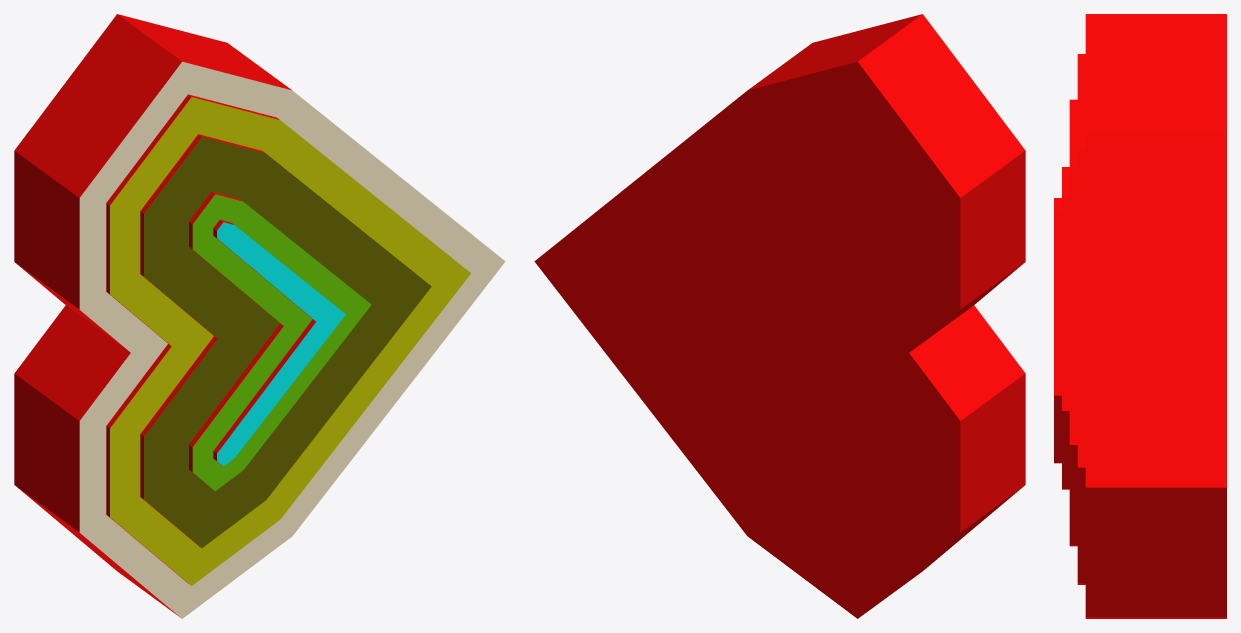
File: heartstoneGem.fbx
3 views of the same model, side by side, from view 1: azimuth 30°, elevation 25°; view 2: azimuth 150°, elevation 25°; view 3: azimuth 270°, elevation 25° (orthographic). The views are drawn at different scales.
Parts seen in each view (by area): view 1: Model; view 2: Model; view 3: Model.
Boxes of the visible parts, x1,y1,x2,y2 form: Model: [14, 14, 505, 618]; Model: [534, 14, 1025, 618]; Model: [1054, 14, 1226, 618].
Size of the model in its own units: 1.36 by 1.7 by 0.44.
